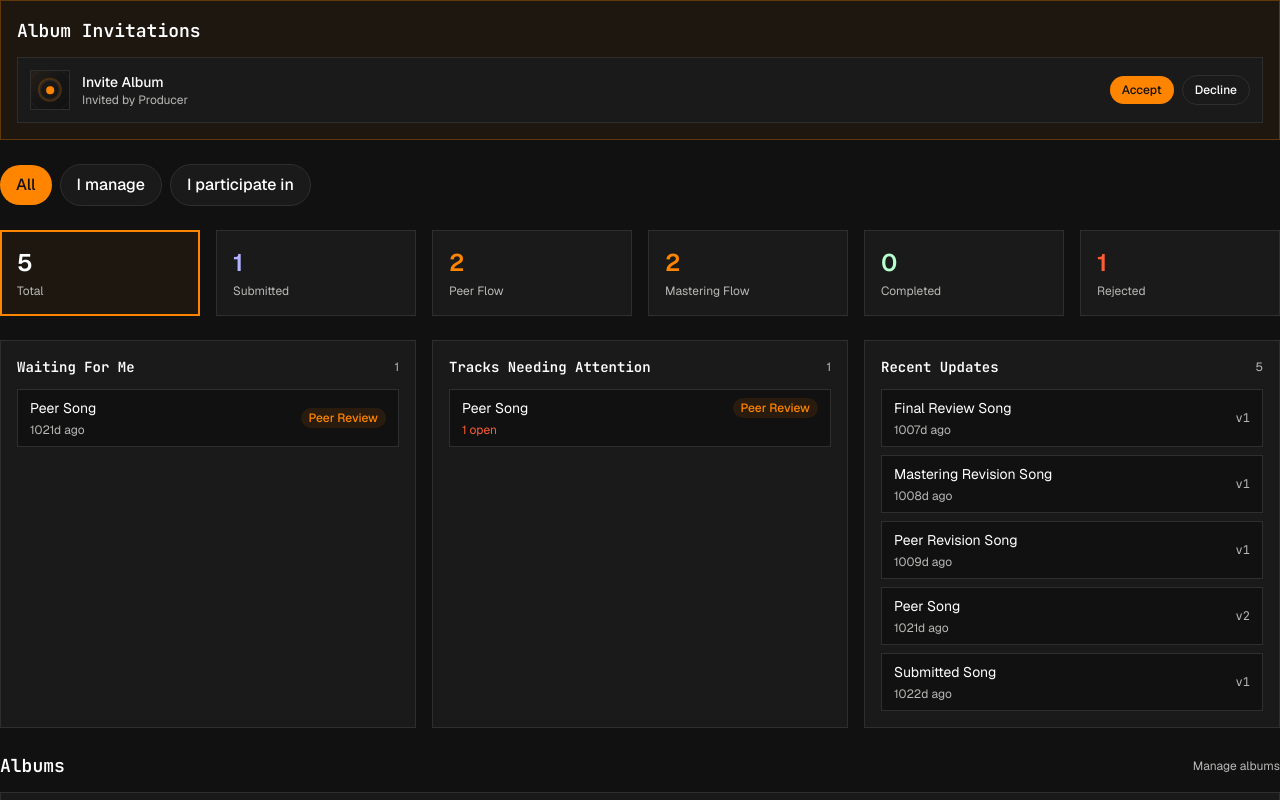
it: DashboardView › loads dashboard data and filters tracks by status
Check: the text "Rejected Song" is not shown
Click the button "2 Peer Flow".
click(532, 273)  # box top-left (432, 230), bottom-right (632, 316)
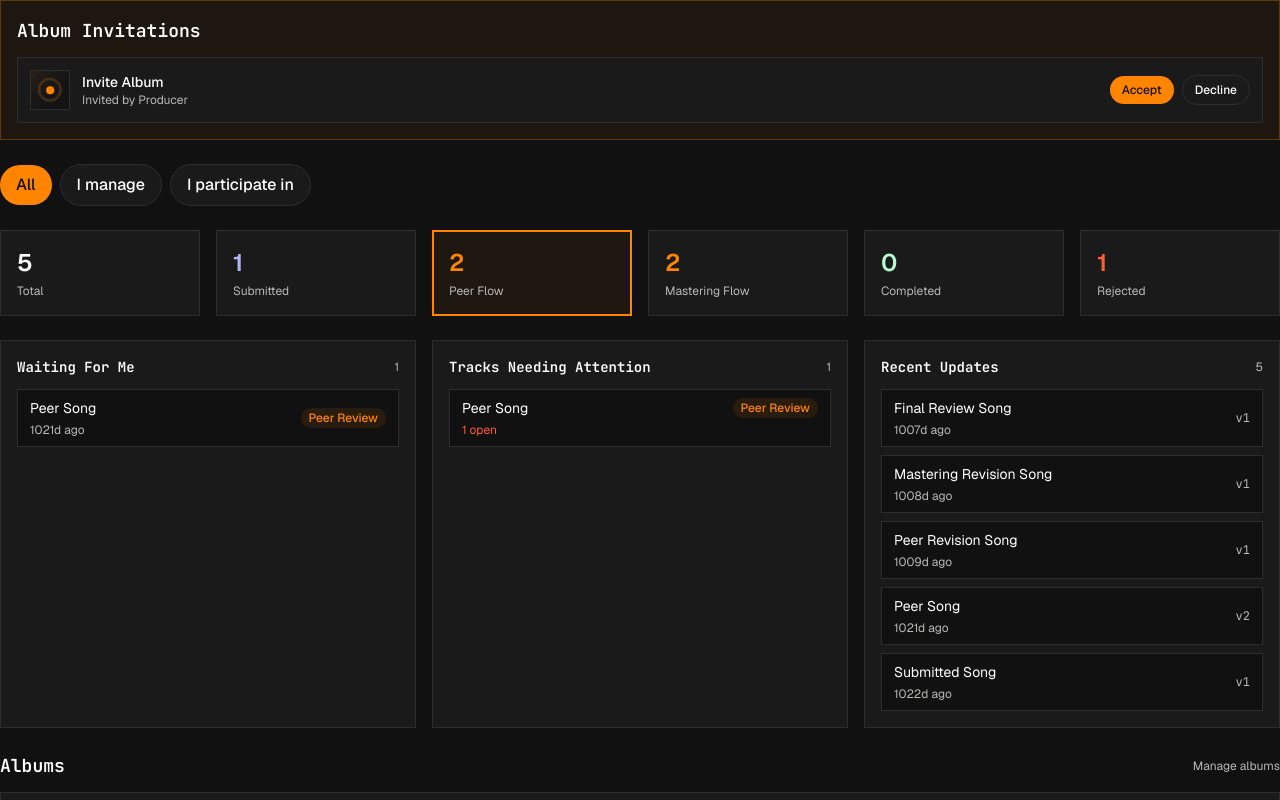
Check: the text "Submitted Song" is not shown
Click the button "2 Mastering Flow".
click(748, 273)  # box top-left (648, 230), bottom-right (848, 316)
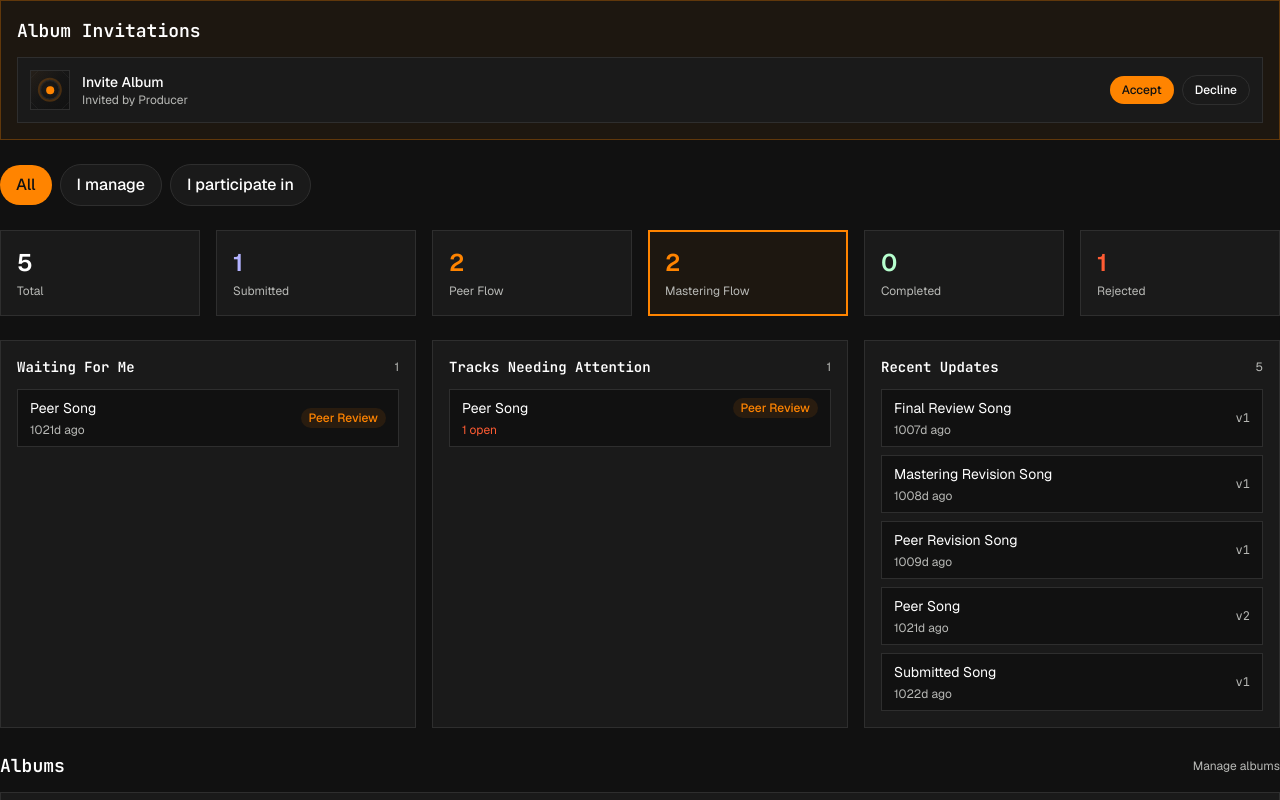
Check: the text "Peer Song" is not shown
Click the button "1 Rejected".
click(1180, 273)  # box top-left (1080, 230), bottom-right (1279, 316)
(page scrolled)
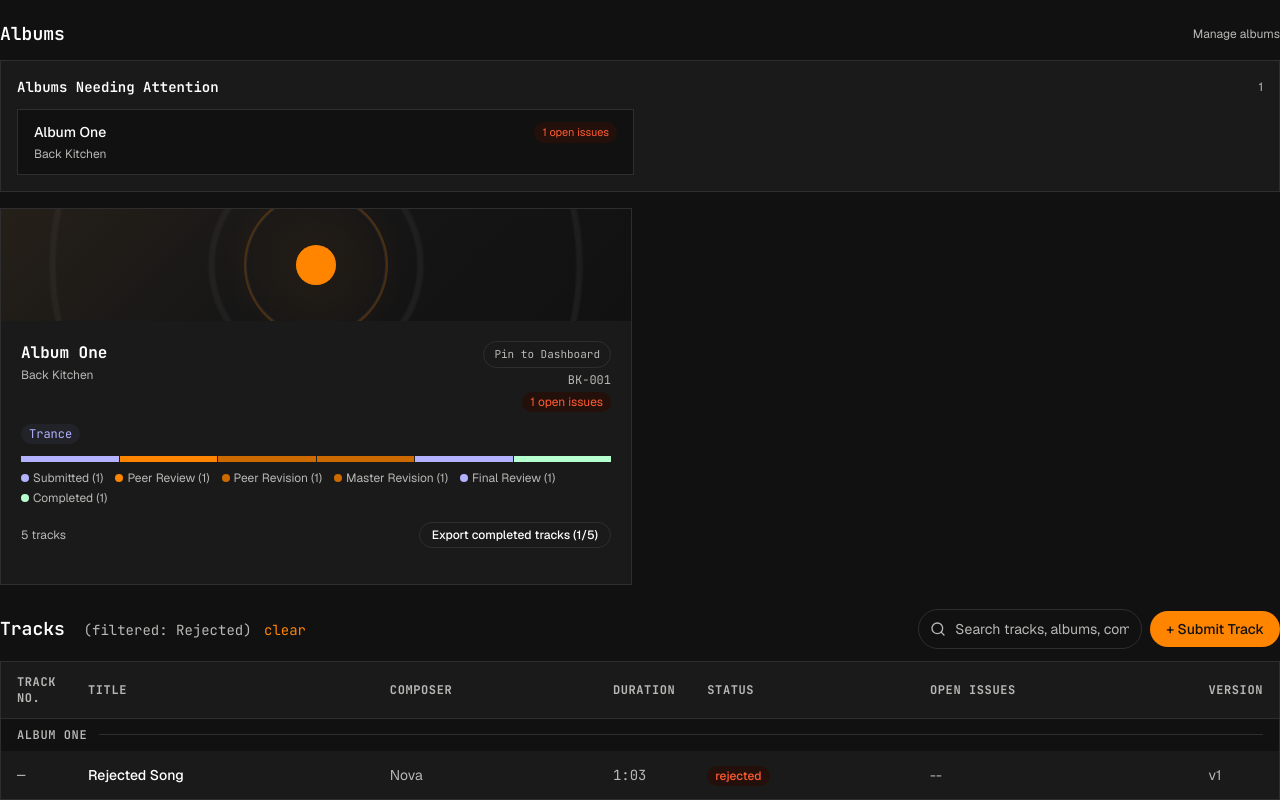
Check: the text "Peer Song" is not shown
Check: the table shows "Rejected Song", box top-left (88, 766), bottom-right (184, 784)
